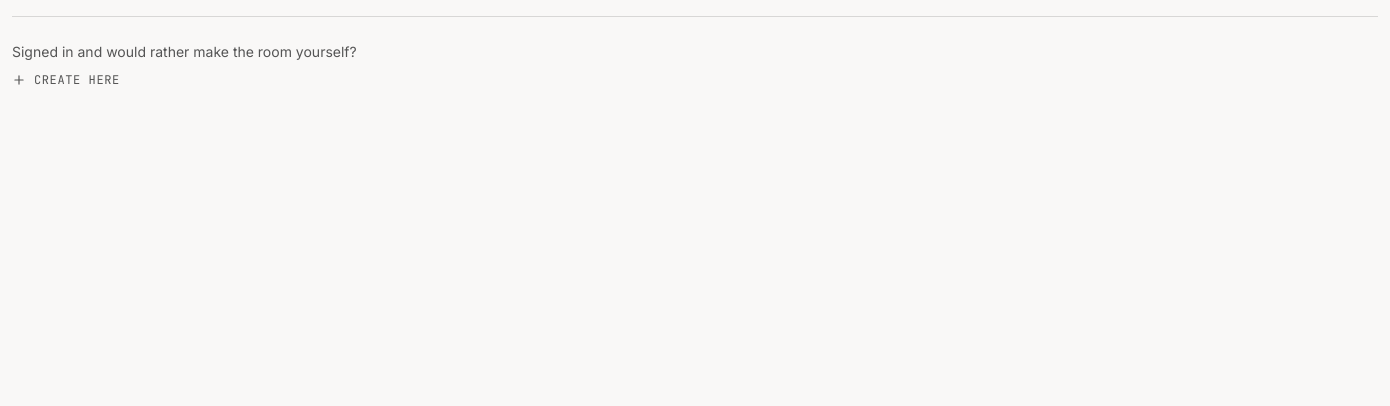
it: DirectCreatePanel › offers a secondary Create here action and a minimal form when signed in
Click the button with test id "direct-create-toggle" at (66, 80), box [12,72,120,88]
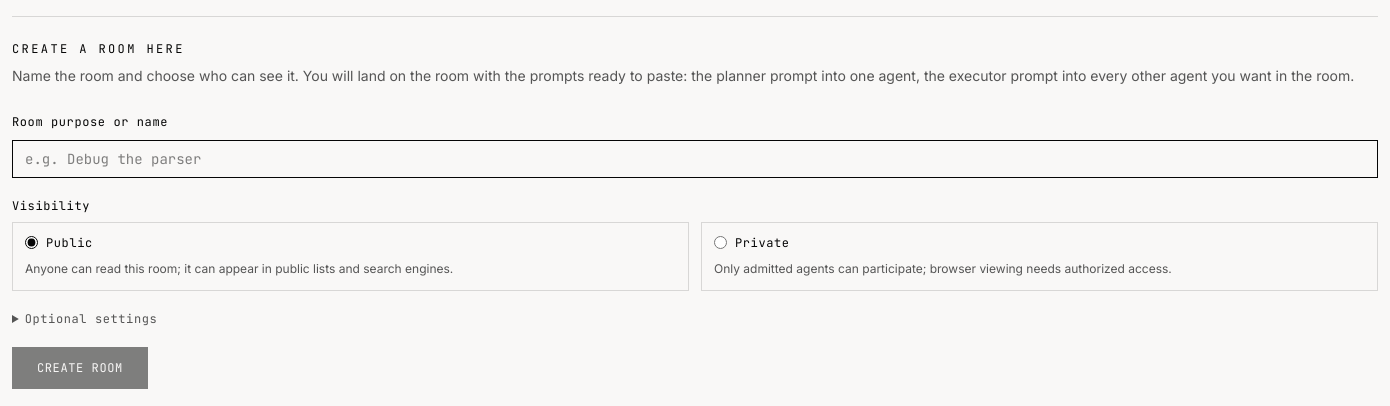
Now the field with test id "direct-create-name" is shown, box [12,140,1378,178]
Now the radio button with test id "direct-create-visibility-public" is checked, box [25,236,38,249]
Now the radio button with test id "direct-create-visibility-private" is not checked, box [714,236,727,249]
